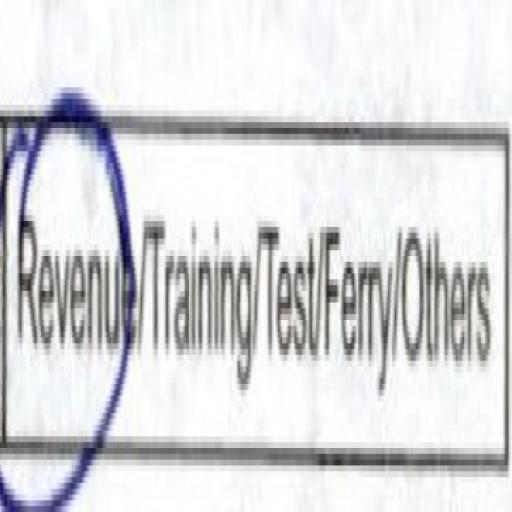check: (0, 58, 139, 512)
